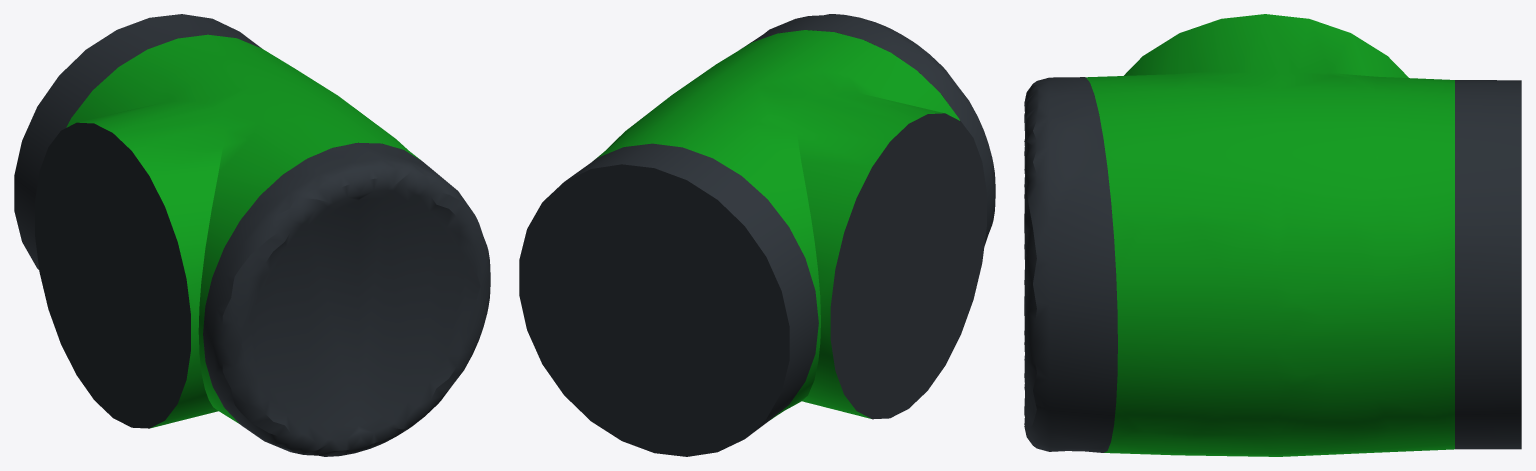
3 renders of one model, left to right at view 1: azimuth 30°, elevation 25°; view 2: azimuth 150°, elevation 25°; view 3: azimuth 270°, elevation 25°, orthographic. The views are drawn at different scales.
Parts seen in each view (by area): view 1: Link_1; view 2: Link_1; view 3: Link_1.
Boxes of the visible parts, x1,y1,x2,y2 form: Link_1: [14, 14, 490, 456]; Link_1: [519, 14, 995, 456]; Link_1: [1024, 14, 1521, 456].
Size of the model in its own units: 0.1565 by 0.1549 by 0.1992.
